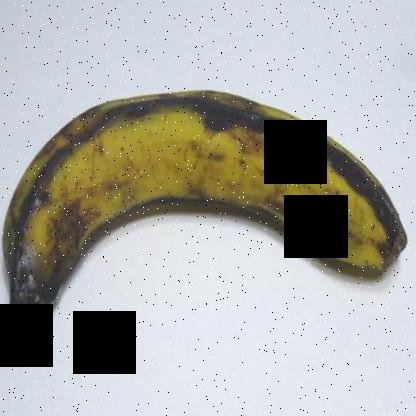overripe: (1, 72, 413, 358)
rotten: (3, 198, 81, 346)
